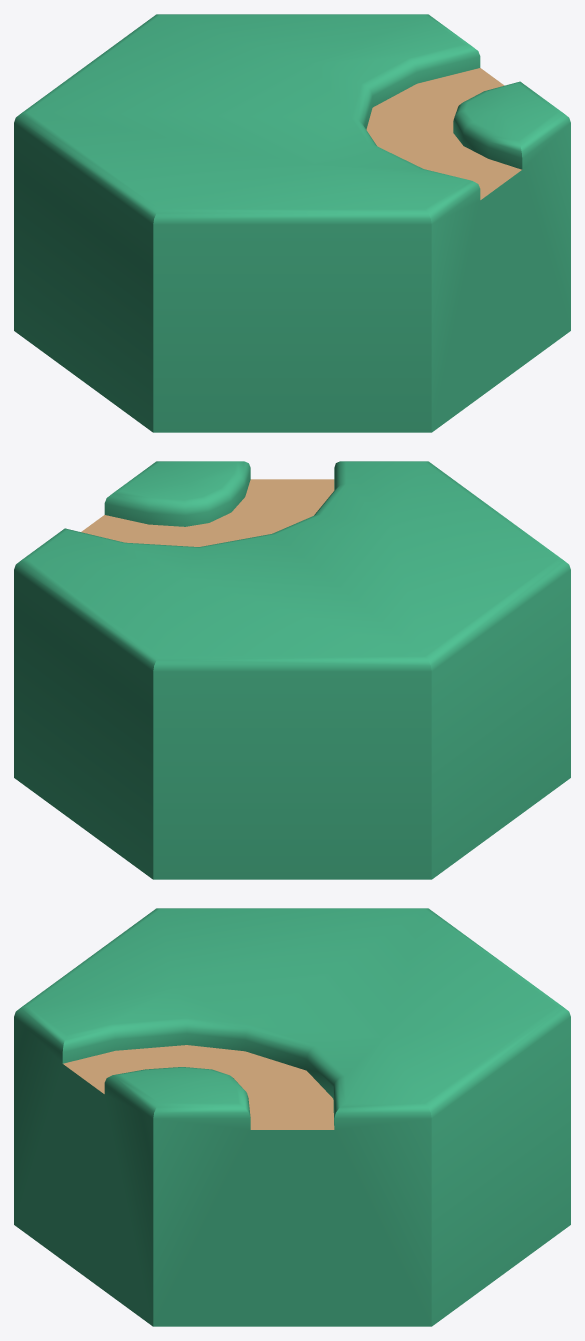
File: kaykit-hex-forest-roadc.glb
The picture shows the model from 3 angles, top to bottom: view 1: azimuth 30°, elevation 25°; view 2: azimuth 150°, elevation 25°; view 3: azimuth 270°, elevation 25°; orthographic projection.
Parts seen in each view (by area): view 1: hex_forest_roadC; view 2: hex_forest_roadC; view 3: hex_forest_roadC.
Boxes of the visible parts, box(x1,y1,x2,y2) form: hex_forest_roadC: box(14, 14, 570, 432); hex_forest_roadC: box(14, 461, 570, 879); hex_forest_roadC: box(14, 908, 570, 1326).
Bounding box in the file's own units: 2 × 1 × 2.31.
